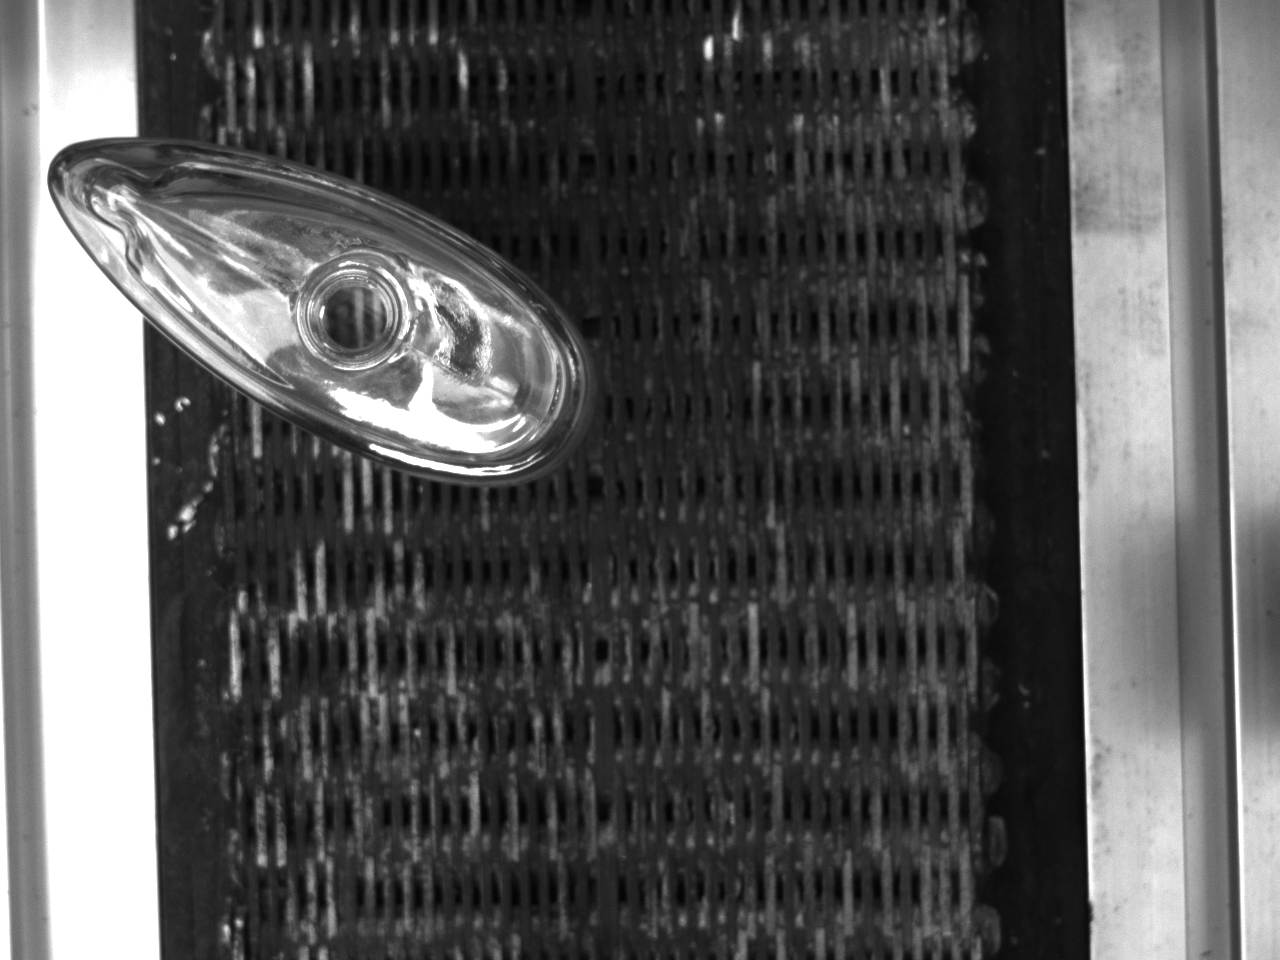bottleneck: (298, 257, 414, 371)
